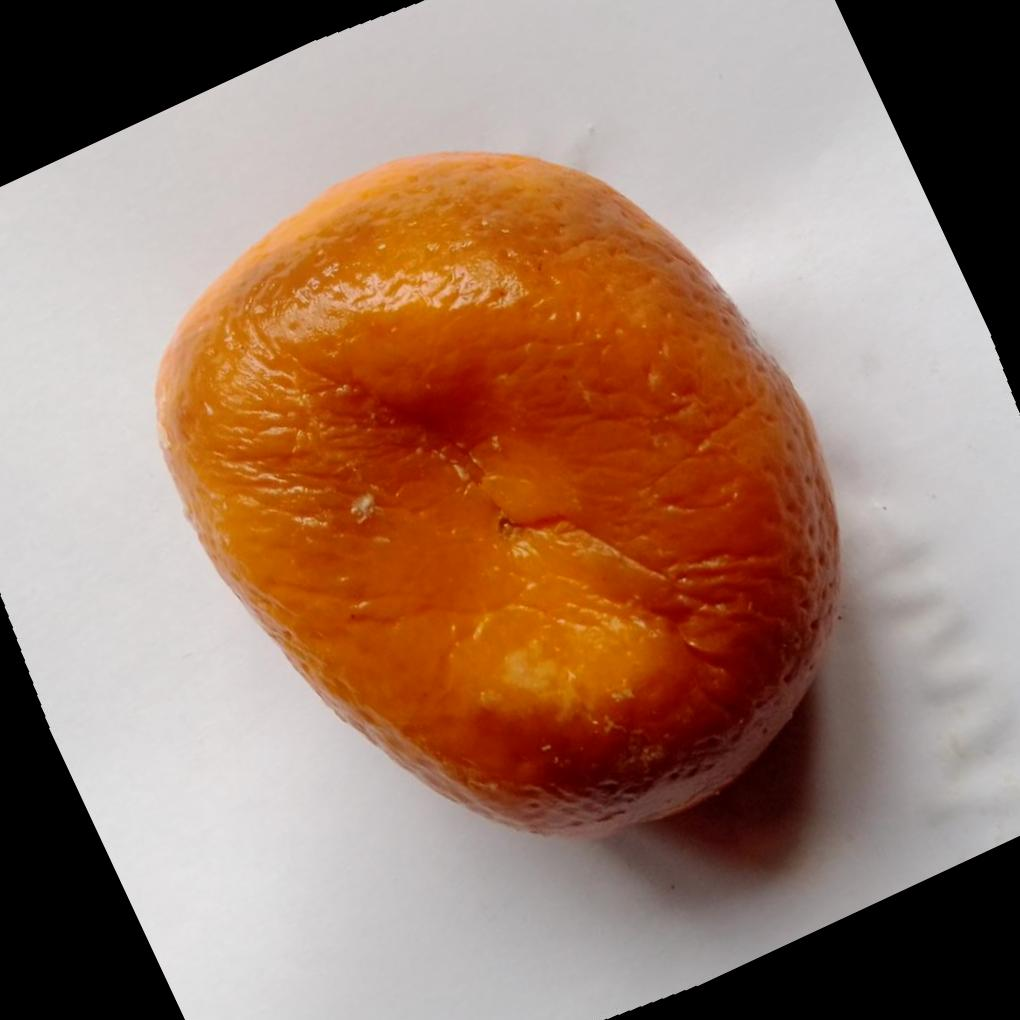FreshOrange: (154, 146, 845, 840)
